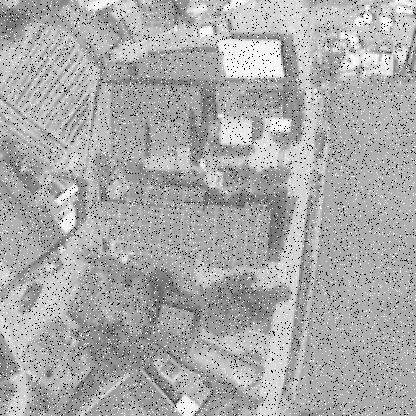solar-pv-panel: (100, 199, 270, 270), (156, 305, 194, 337), (141, 3, 174, 27), (238, 93, 278, 111)
